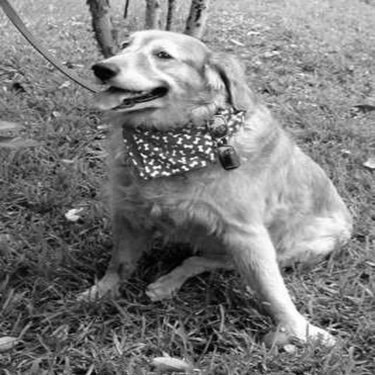dog: (66, 22, 359, 354)
